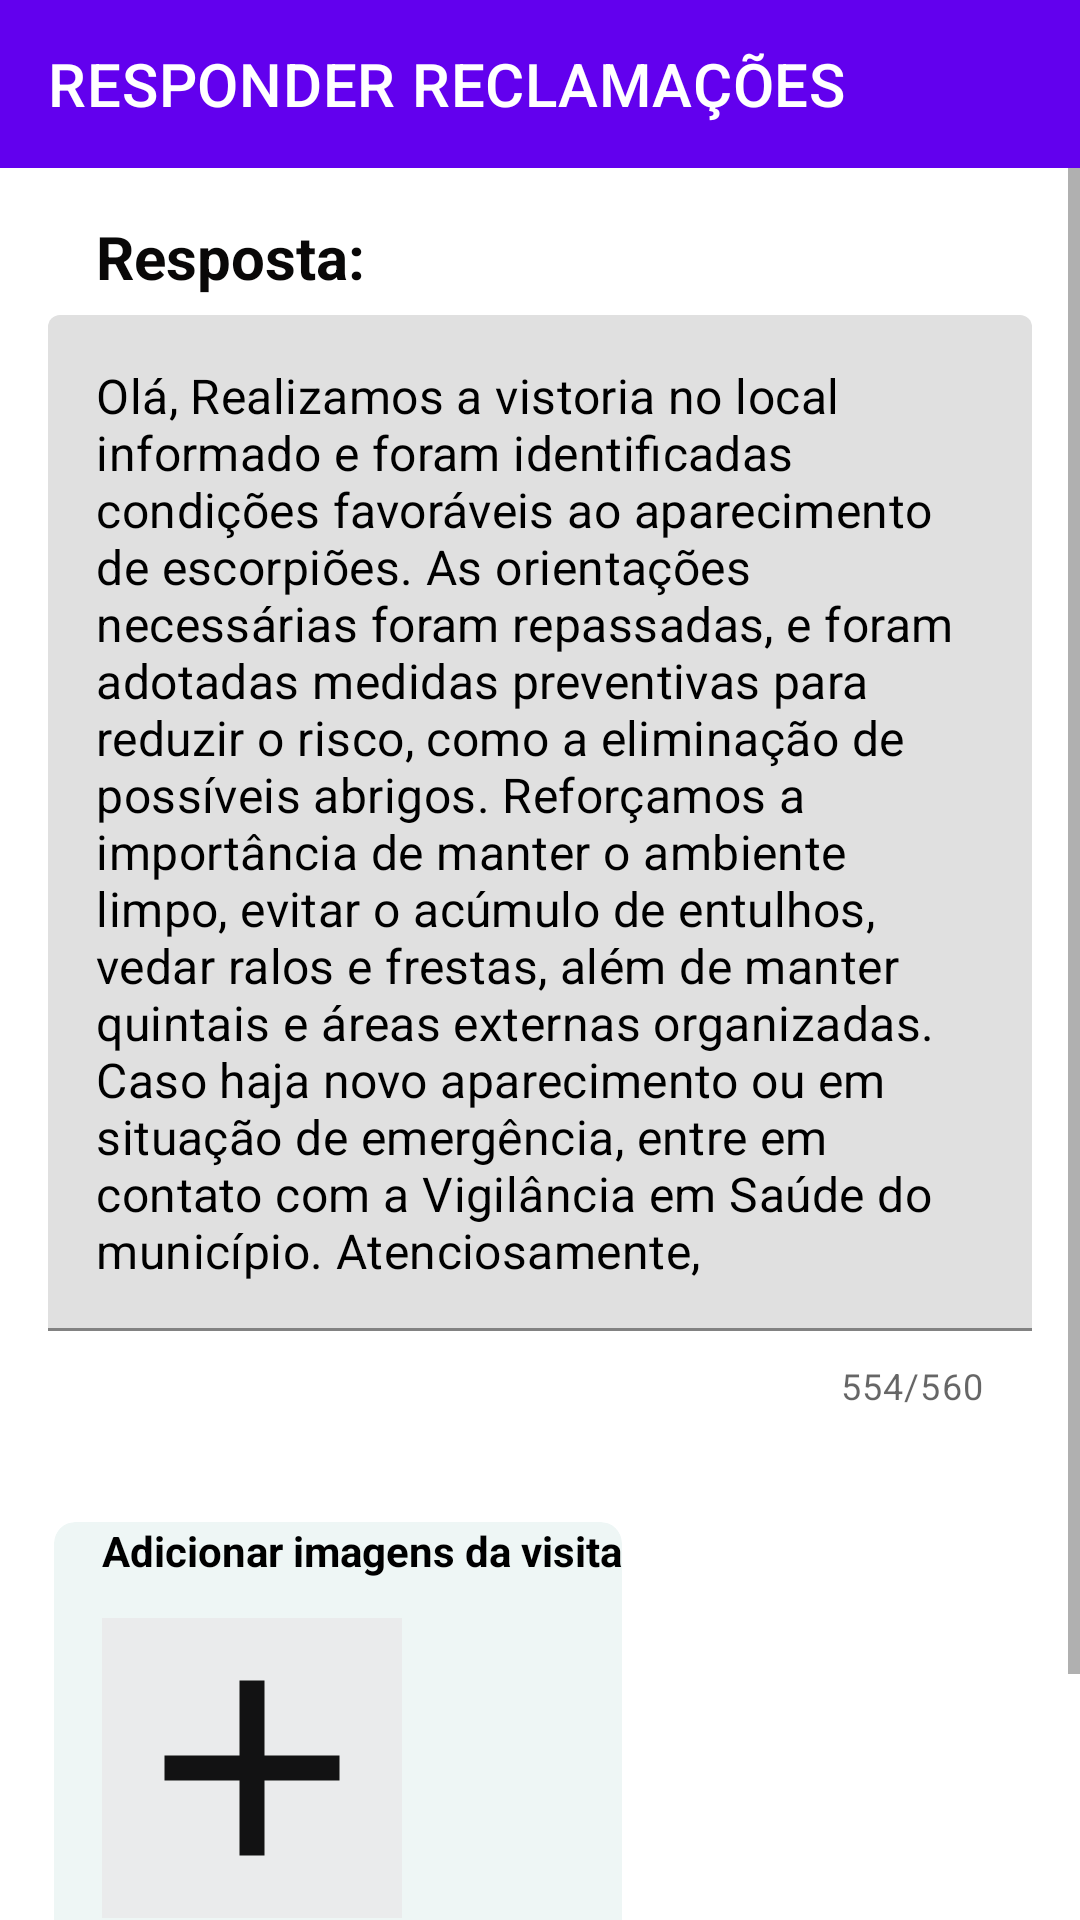

Named icons in this screenshot (1080x1920) and their centers, point (x, y):
Selecionar uma imagem: point (252, 1768)
